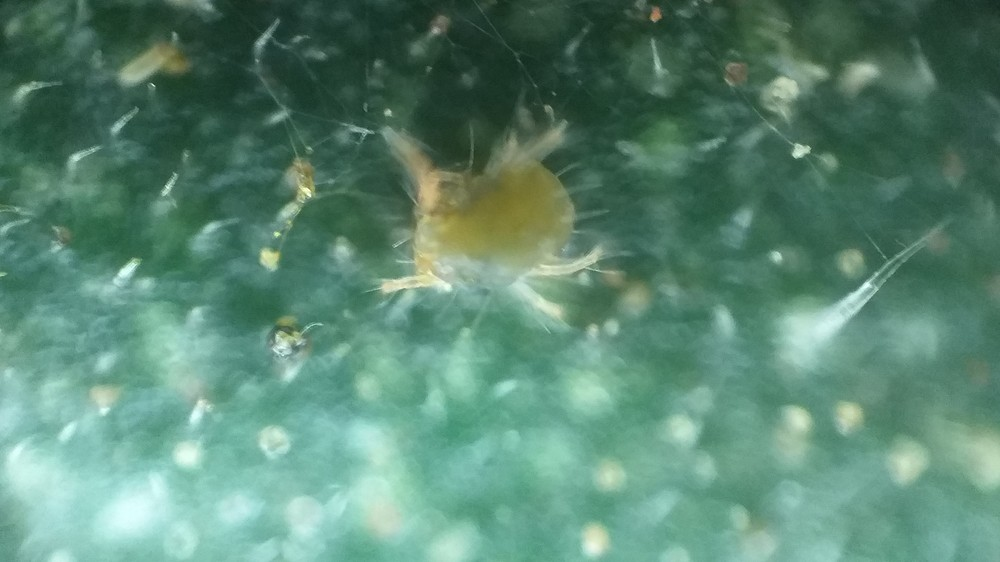Aracnido Rojo: (350, 105, 642, 344)
